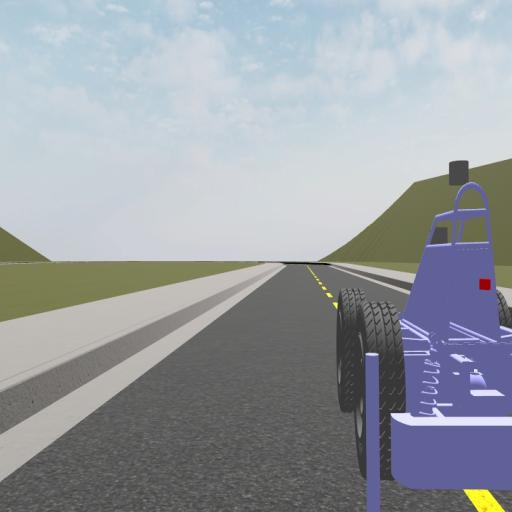ERP-42: (340, 174, 512, 493)
